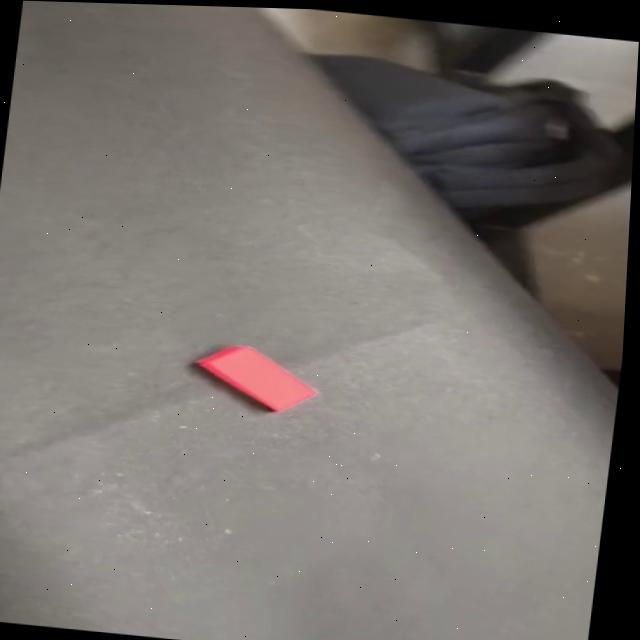red block: (186, 338, 322, 415)
